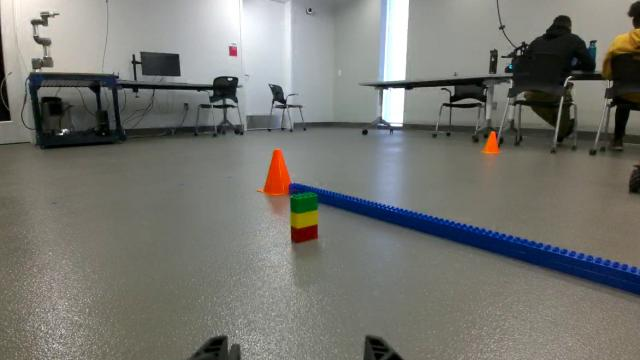lego: (283, 187, 321, 250)
